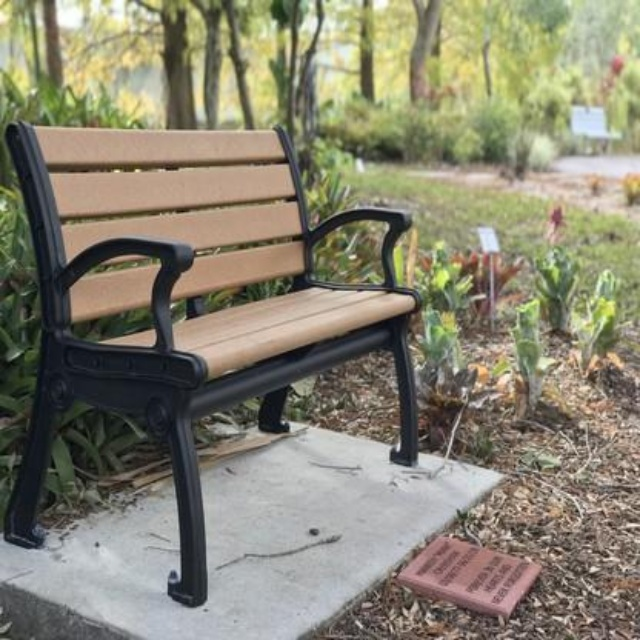obstacle: (3, 117, 437, 609)
